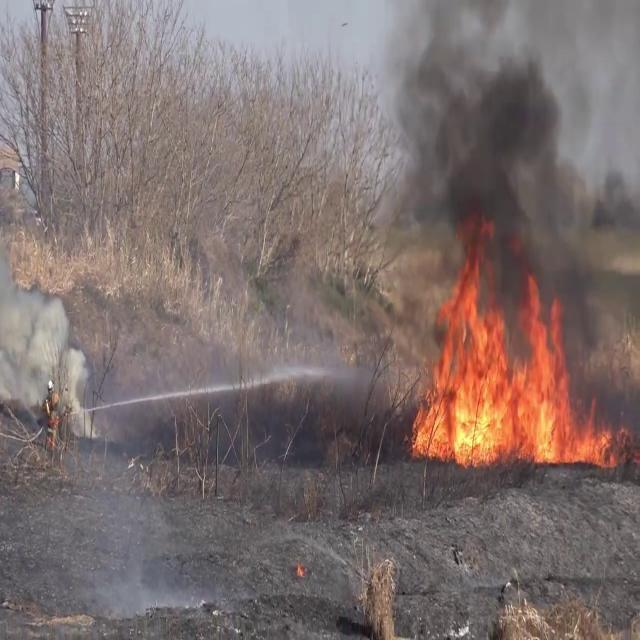Fire: (408, 253, 612, 468)
Smoke: (372, 1, 630, 314), (0, 224, 86, 418)
